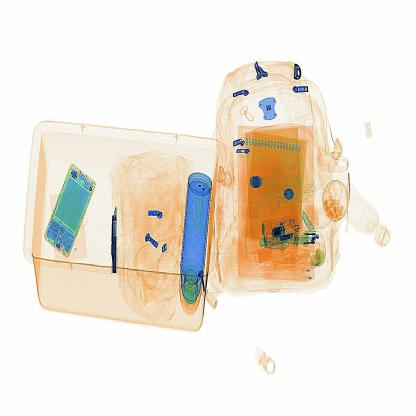pliers: (105, 204, 123, 280)
